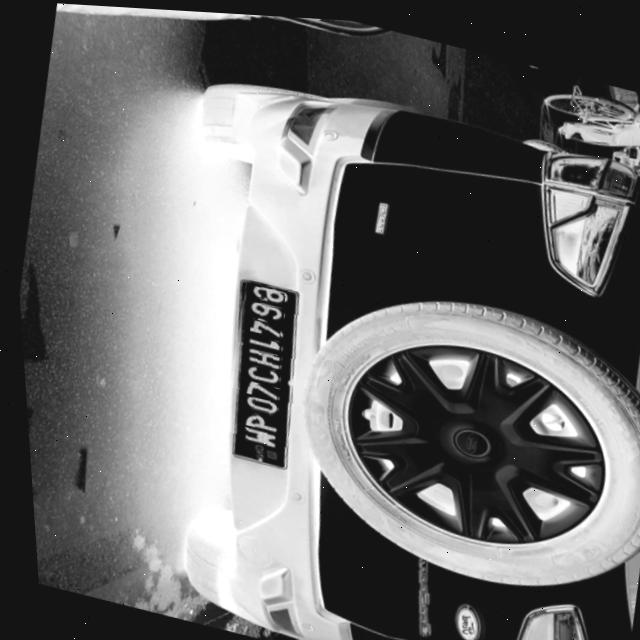0: (239, 393, 273, 413)
1: (241, 332, 277, 349)
4: (244, 314, 277, 335)
6: (243, 298, 280, 319), (244, 282, 281, 302)
7: (239, 378, 274, 398)
C: (239, 361, 275, 382)
H: (241, 345, 277, 367)
IND: (245, 440, 273, 462)
Indian_registered: (226, 277, 292, 465)
M: (235, 424, 272, 446)
P: (236, 408, 273, 430)
